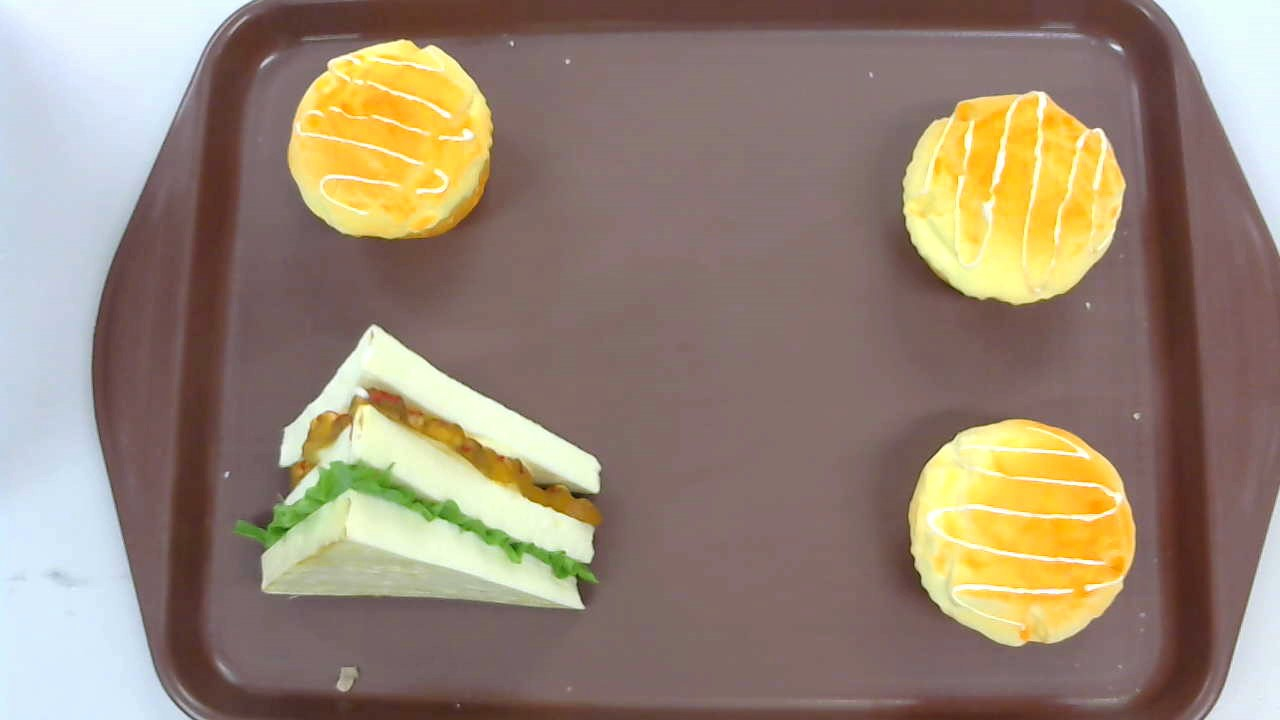cupcake: (909, 419, 1136, 649), (902, 90, 1126, 308), (288, 37, 492, 241)
sandwich: (235, 323, 603, 614)
